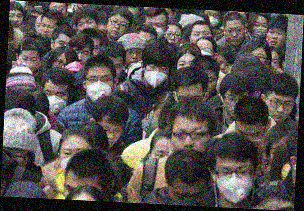with_mask: (213, 162, 253, 206), (84, 73, 114, 104), (59, 146, 90, 175), (41, 86, 69, 115), (143, 64, 170, 90), (18, 53, 40, 74), (144, 20, 167, 40), (203, 10, 221, 28), (251, 21, 268, 40)
without_mask: (171, 123, 213, 155), (267, 95, 295, 123), (96, 123, 125, 149), (235, 127, 267, 150), (190, 72, 218, 97), (222, 93, 248, 119), (106, 16, 129, 40), (224, 23, 246, 46), (266, 28, 287, 48), (124, 48, 143, 69), (163, 29, 183, 48), (72, 47, 92, 66), (38, 21, 57, 41), (76, 17, 97, 34), (190, 29, 212, 45), (8, 10, 24, 26), (216, 59, 230, 75)
